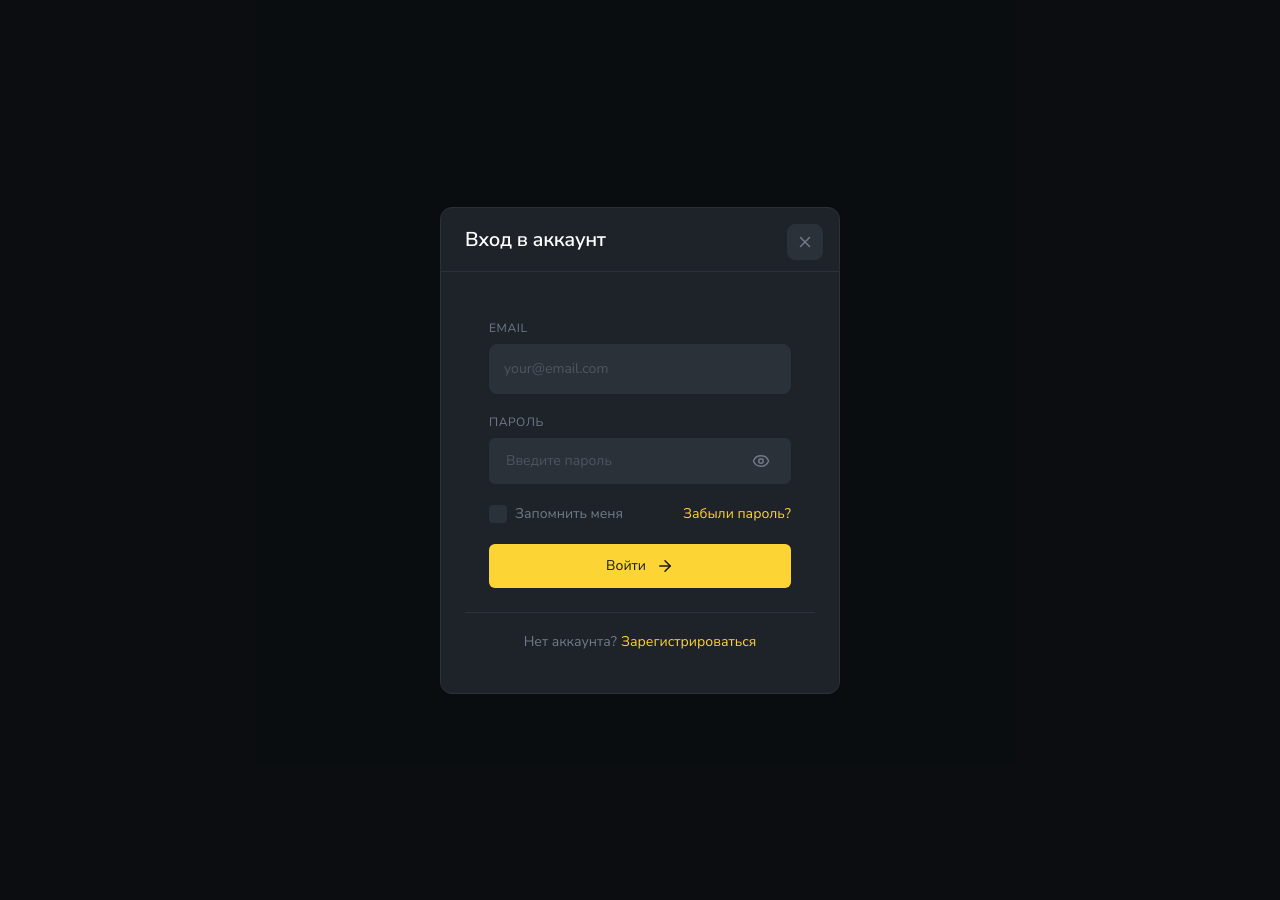
Test: LoginModal › shows error on failed login
Step 1. Type "test@example.com" into the field with placeholder "your@email.com" → point(640, 368), box [489,344,791,394]
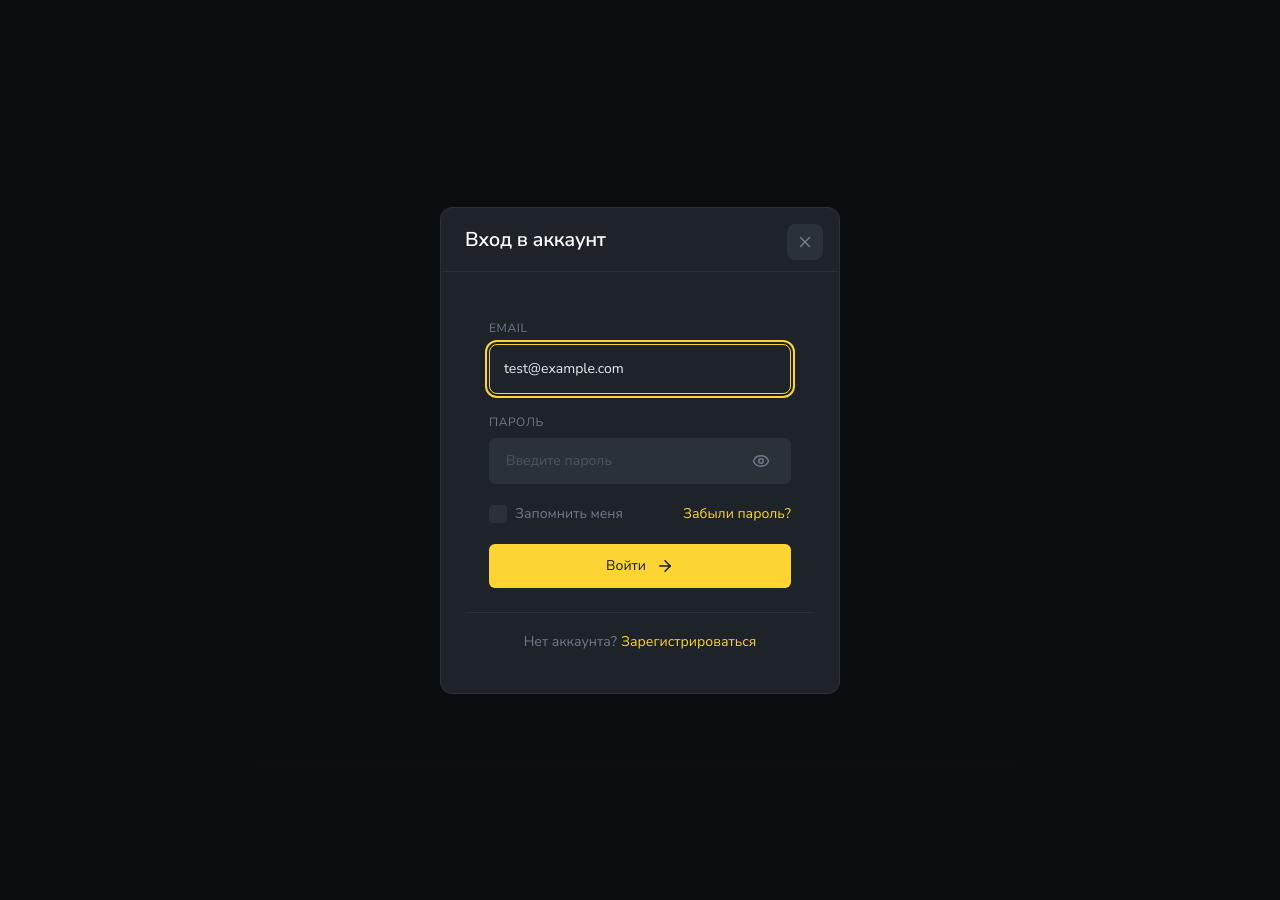
Step 2. Type "wrongpassword" into the password field labelled "Пароль" → point(640, 460), box [489,438,791,484]
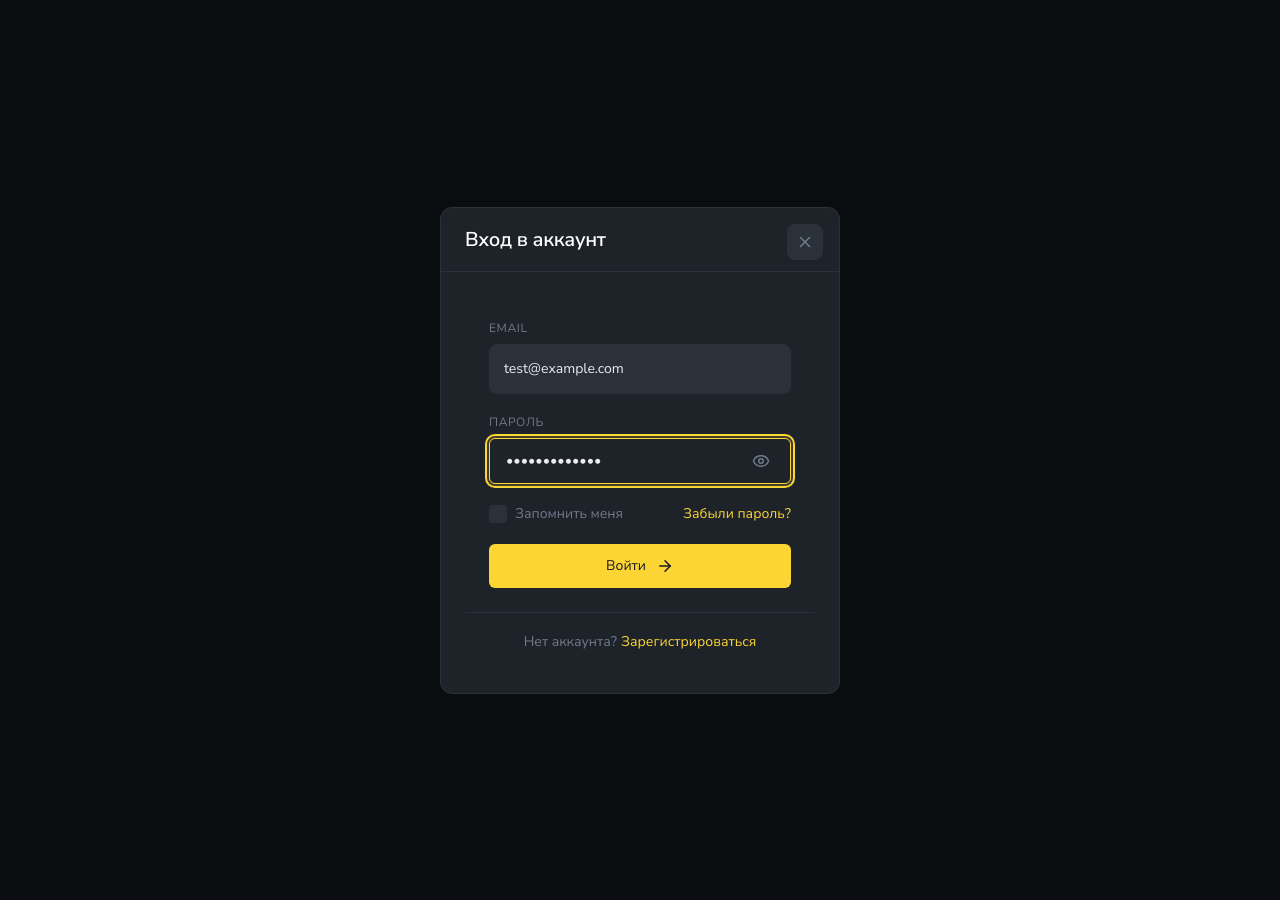
Step 3. Click the button "Войти" → point(640, 566), box [489,544,791,588]
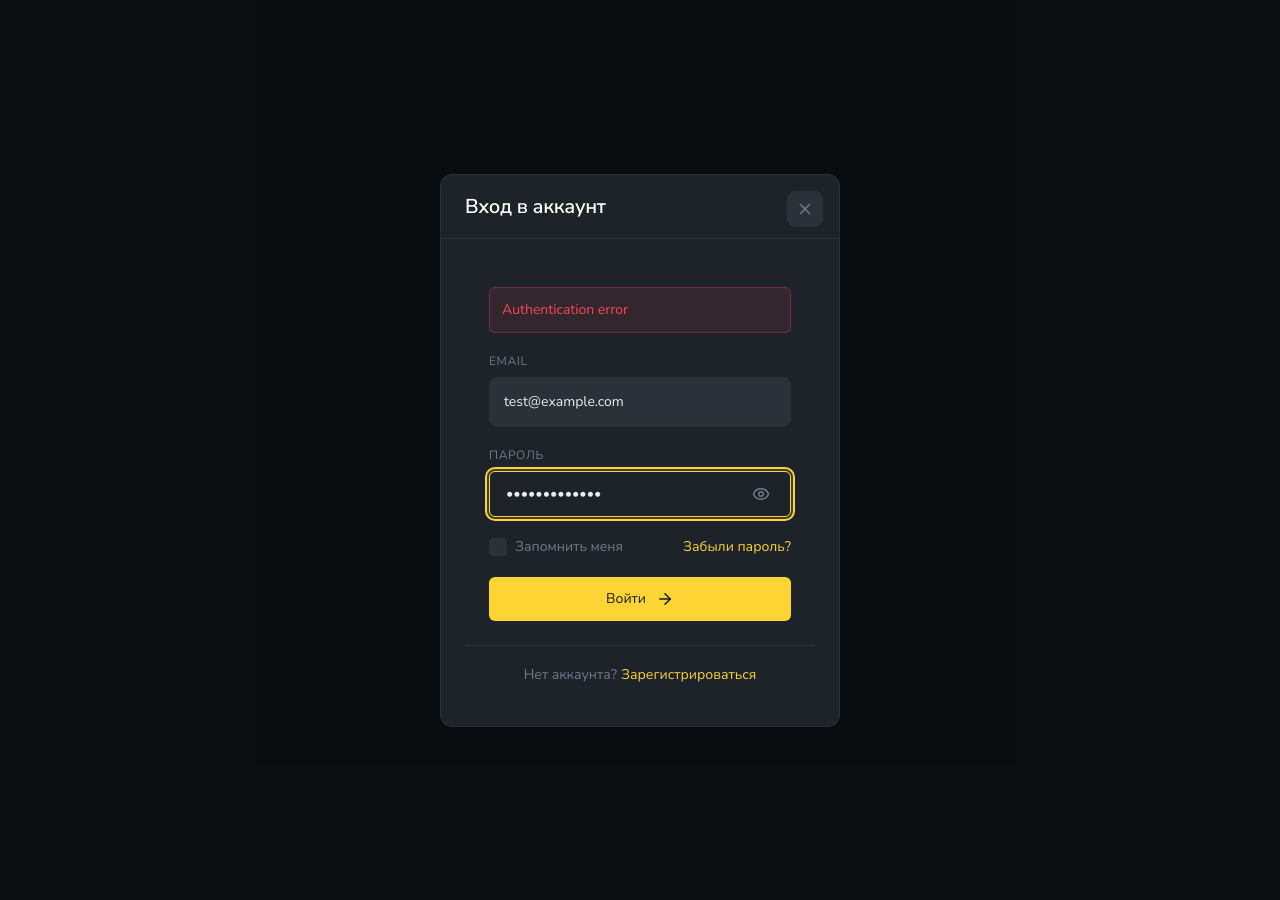
Expected: the message reads "Authentication error", [502,300,628,318]
